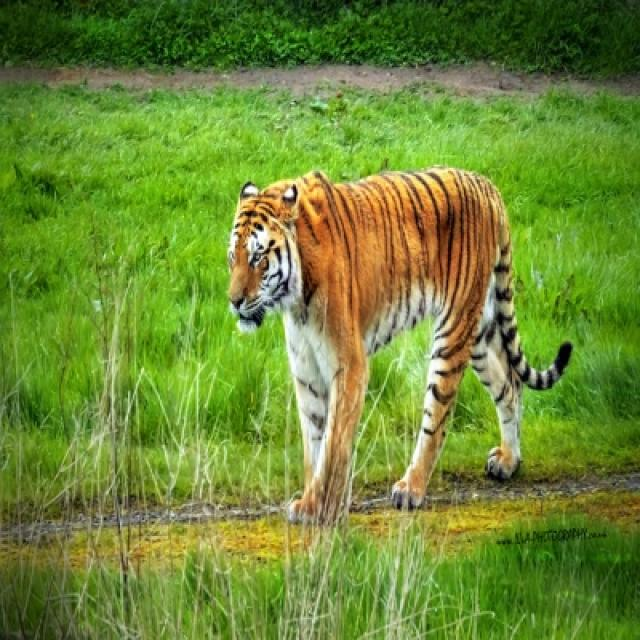Tiger: (235, 167, 573, 526)
